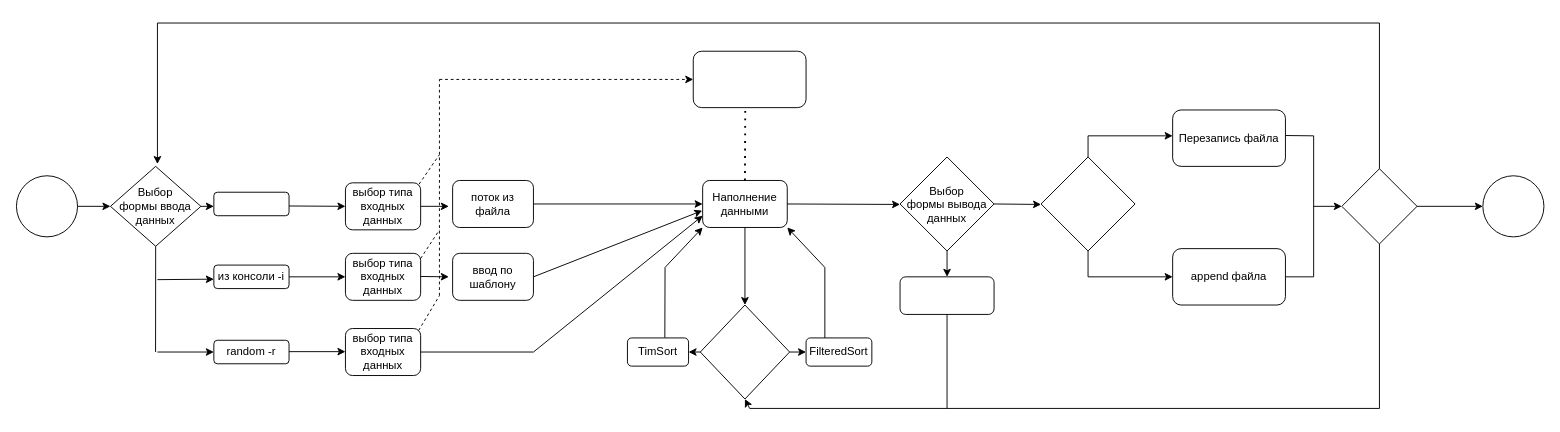
The diagram is 1560 pixels wide and 432 high, and some of its shapes have lost their labels. The centre of each missing label's shape, as x and y in pixels:
Выбор сортировки: the point at 744,351
Вывод в консоль: the point at 946,295
из файла -f: the point at 251,203
Подготовка и настройка репозитория: the point at 749,79
Экспорт в файл: the point at 1087,203
